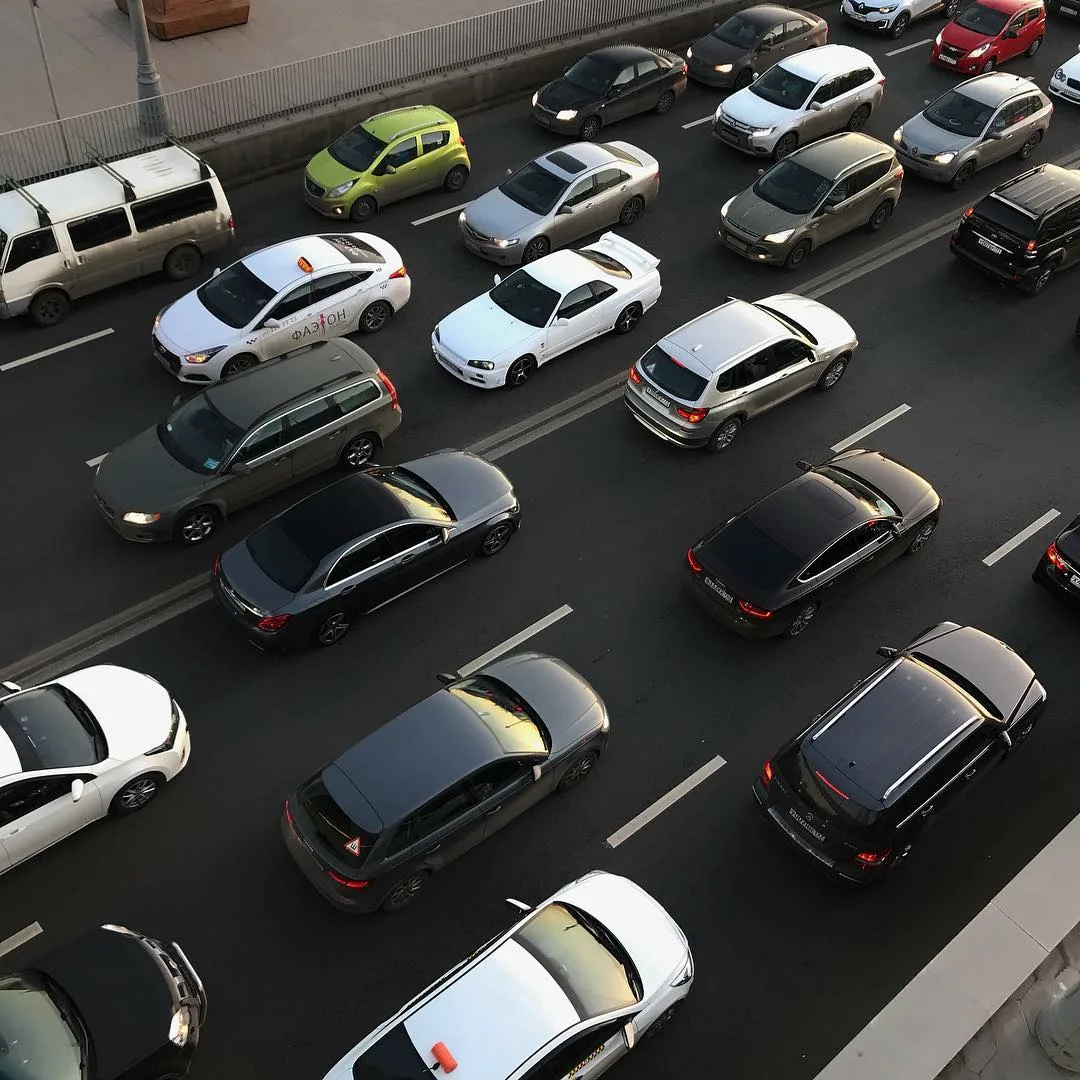Car: (279, 651, 609, 916), (322, 871, 696, 1080), (753, 621, 1047, 886), (93, 339, 402, 546), (213, 451, 522, 649), (684, 449, 943, 640), (0, 140, 236, 328), (0, 664, 191, 876), (151, 233, 412, 387), (623, 294, 859, 453), (430, 233, 663, 391), (0, 923, 209, 1080), (457, 141, 661, 267), (718, 132, 904, 270), (712, 44, 886, 161), (303, 103, 472, 223), (891, 71, 1053, 189), (949, 164, 1080, 295), (530, 45, 687, 139), (686, 4, 829, 91), (930, 0, 1047, 76), (1031, 509, 1080, 610), (840, 0, 963, 39), (1047, 43, 1080, 107), (1047, 0, 1080, 22)
